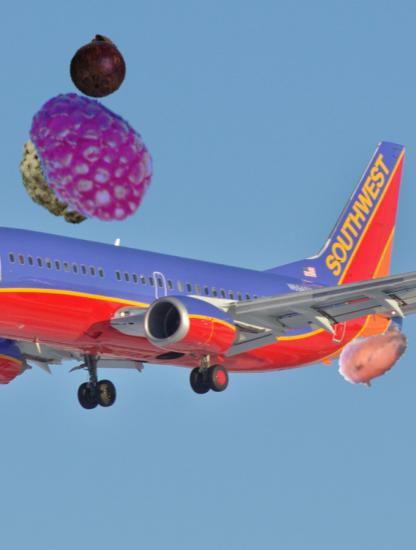Banana: (336, 320, 414, 398)
Cauliflower: (15, 115, 123, 223)
Mangostan: (68, 37, 130, 99)
Raspberry: (16, 88, 159, 231)
